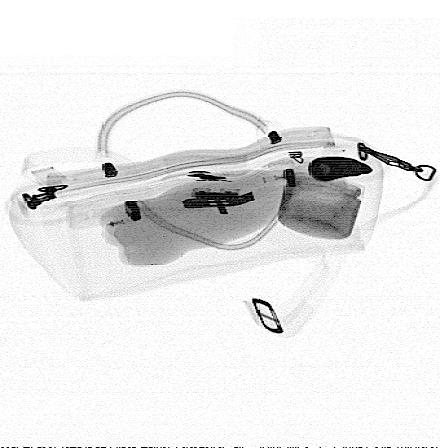Bullet: (308, 156, 373, 183)
